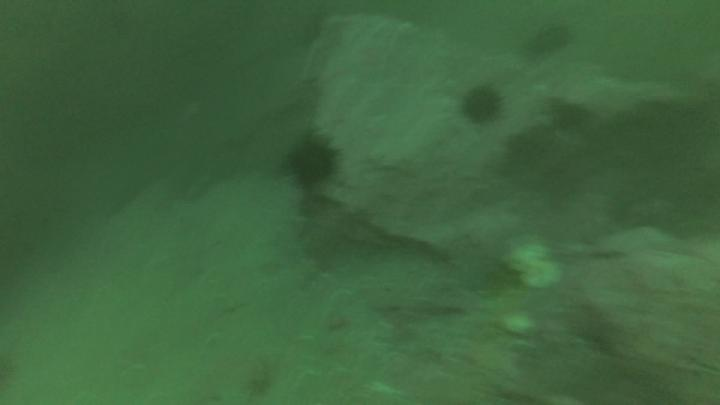echinus: (282, 139, 344, 192), (459, 82, 509, 128), (532, 23, 571, 59)
holothurian: (246, 353, 272, 400)
